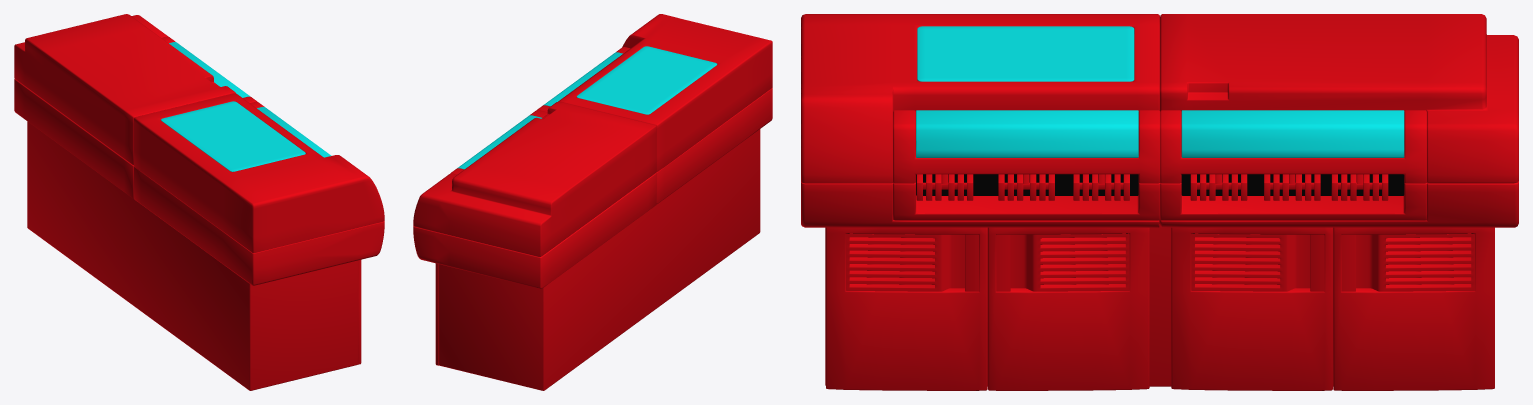
File: BloodChemAnalyzer.003.fbx
3 renders of one model, left to right at view 1: azimuth 30°, elevation 25°; view 2: azimuth 150°, elevation 25°; view 3: azimuth 270°, elevation 25°, orthographic. The views are drawn at different scales.
Parts seen in each view (by area): view 1: GEO_BloodChemAnalyzer_Body, GEO_BloodChemAnalyzer_GlassTop; view 2: GEO_BloodChemAnalyzer_Body, GEO_BloodChemAnalyzer_GlassTop; view 3: GEO_BloodChemAnalyzer_Body, GEO_BloodChemAnalyzer_GlassTop, GEO_BloodChemAnalyzer_Blackout.
Boxes of the visible parts, <box> form: GEO_BloodChemAnalyzer_Body: <box>14,14,384,390</box>; GEO_BloodChemAnalyzer_GlassTop: <box>161,42,331,171</box>; GEO_BloodChemAnalyzer_Body: <box>413,14,772,390</box>; GEO_BloodChemAnalyzer_GlassTop: <box>457,46,717,169</box>; GEO_BloodChemAnalyzer_Body: <box>801,14,1518,390</box>; GEO_BloodChemAnalyzer_GlassTop: <box>916,26,1404,157</box>; GEO_BloodChemAnalyzer_Blackout: <box>847,174,1473,233</box>.
Size of the model in its own units: 1236 by 1727 by 3861.
